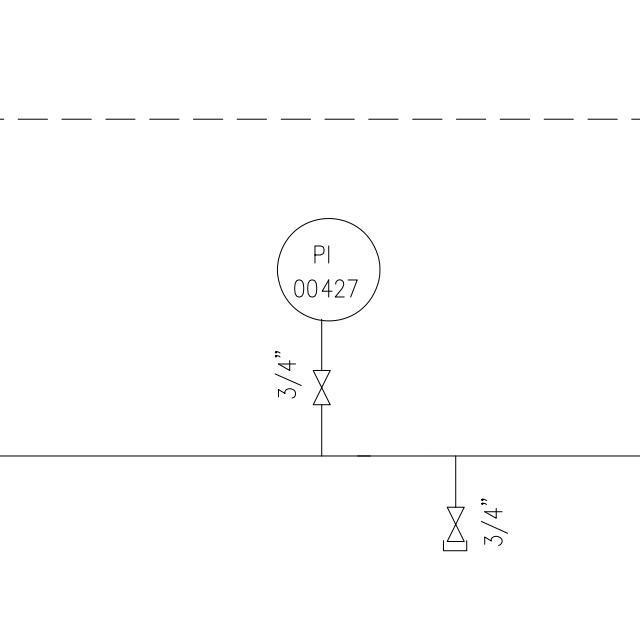EC: (439, 482, 473, 557)
GV: (309, 365, 333, 410), (446, 503, 465, 546)
